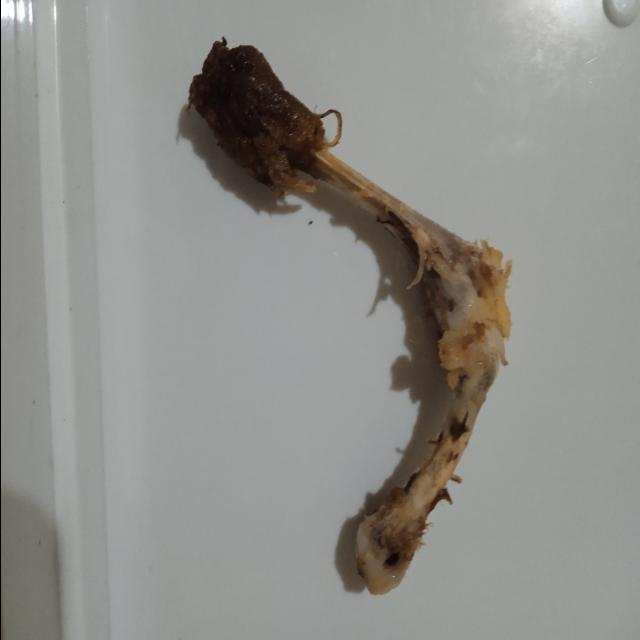bone: (177, 31, 520, 606)
